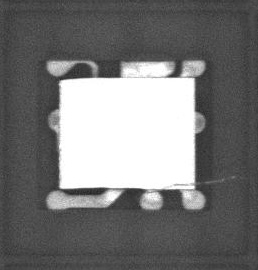DIE_INK: (145, 175, 236, 193)
